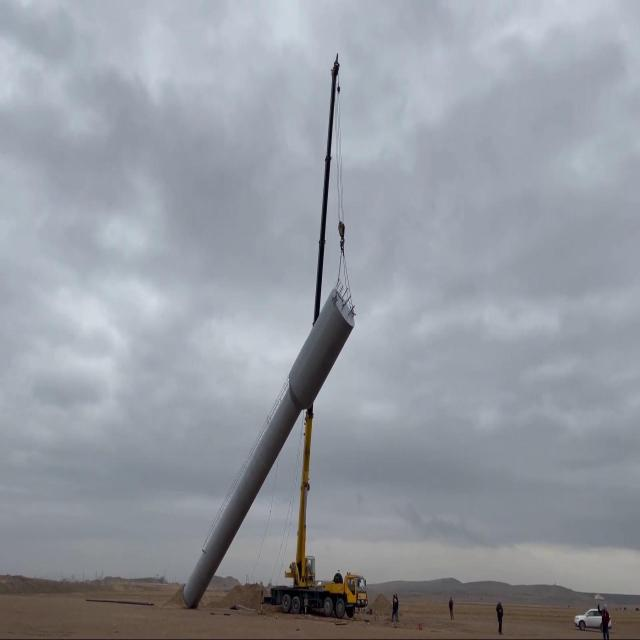crane: (255, 51, 370, 621)
